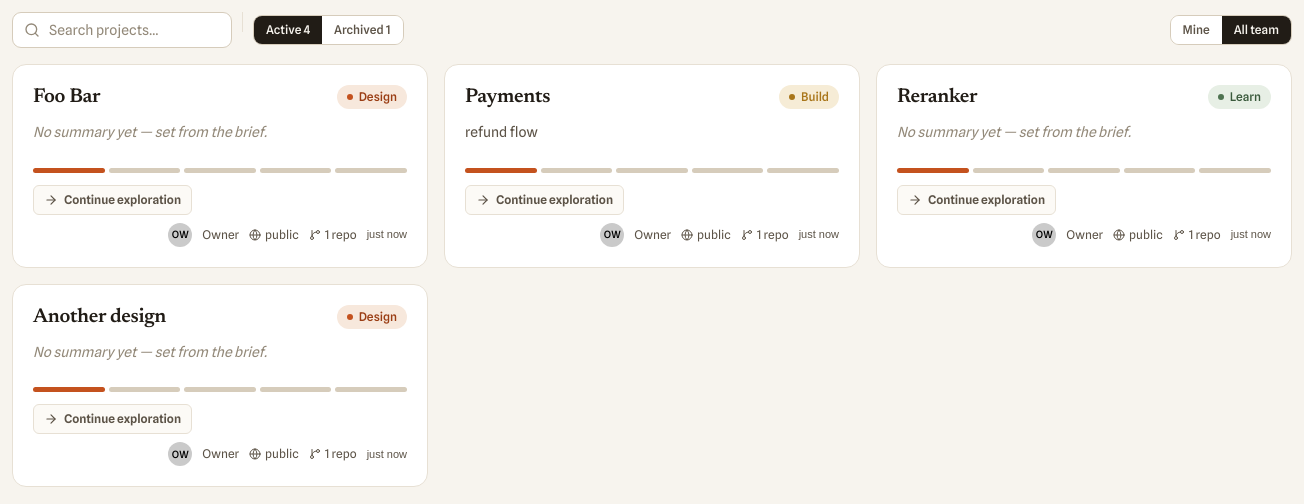
ProjectFilterBar (component) › Active|Archived swaps the rendered set and moves the checked radio
Click the radio button labelled "Archived 1": {"x": 362, "y": 30} [322,16,403,44]
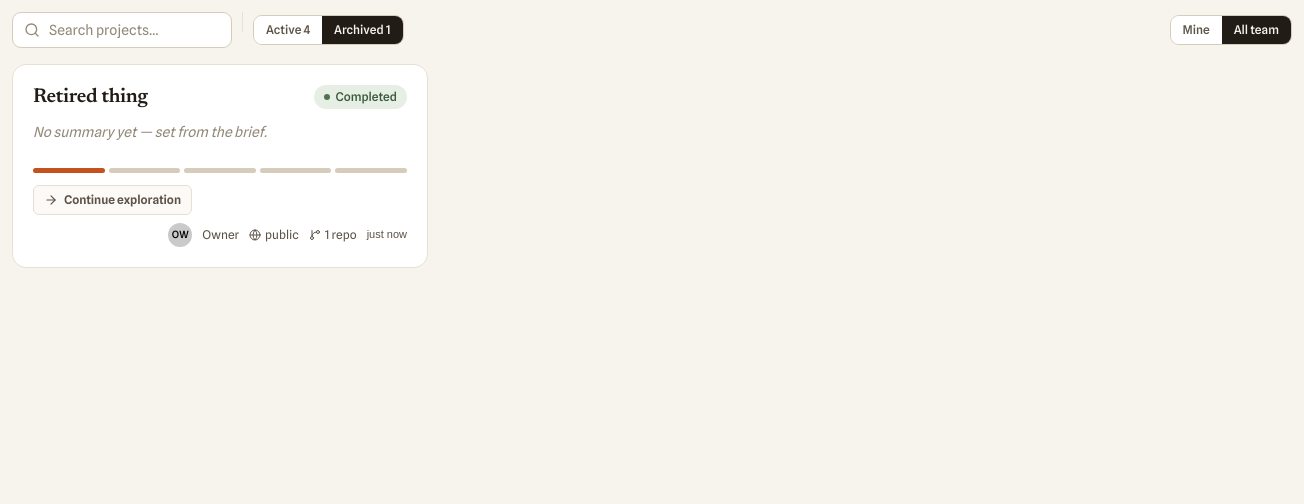
Now the heading "Retired thing" is shown, box [33,85,148,110]
